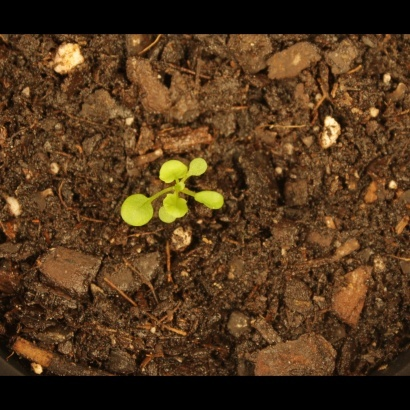leaf: (118, 192, 156, 229), (192, 183, 228, 221), (159, 158, 189, 187), (184, 155, 215, 182), (161, 196, 191, 221), (159, 205, 182, 228)
